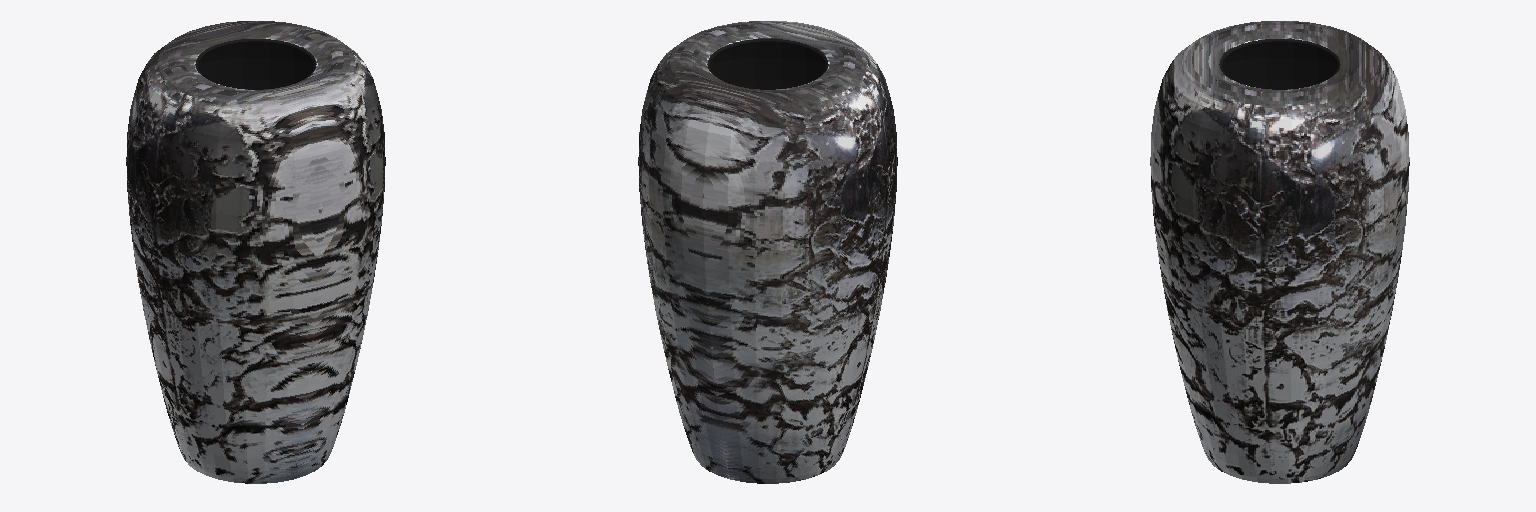
3 renders of one model, left to right at view 1: azimuth 30°, elevation 25°; view 2: azimuth 150°, elevation 25°; view 3: azimuth 270°, elevation 25°, orthographic.
Parts seen in each view (by area): view 1: Mesh1_Model; view 2: Mesh1_Model; view 3: Mesh1_Model.
Part boxes in pixels (x1,y1,x2,y2): Mesh1_Model: (126, 21, 385, 483); Mesh1_Model: (638, 21, 897, 483); Mesh1_Model: (1150, 21, 1409, 483).
Bounding box in the file's own units: 14.46 × 24.38 × 14.54.
Materials: 2 (1 with a texture image).